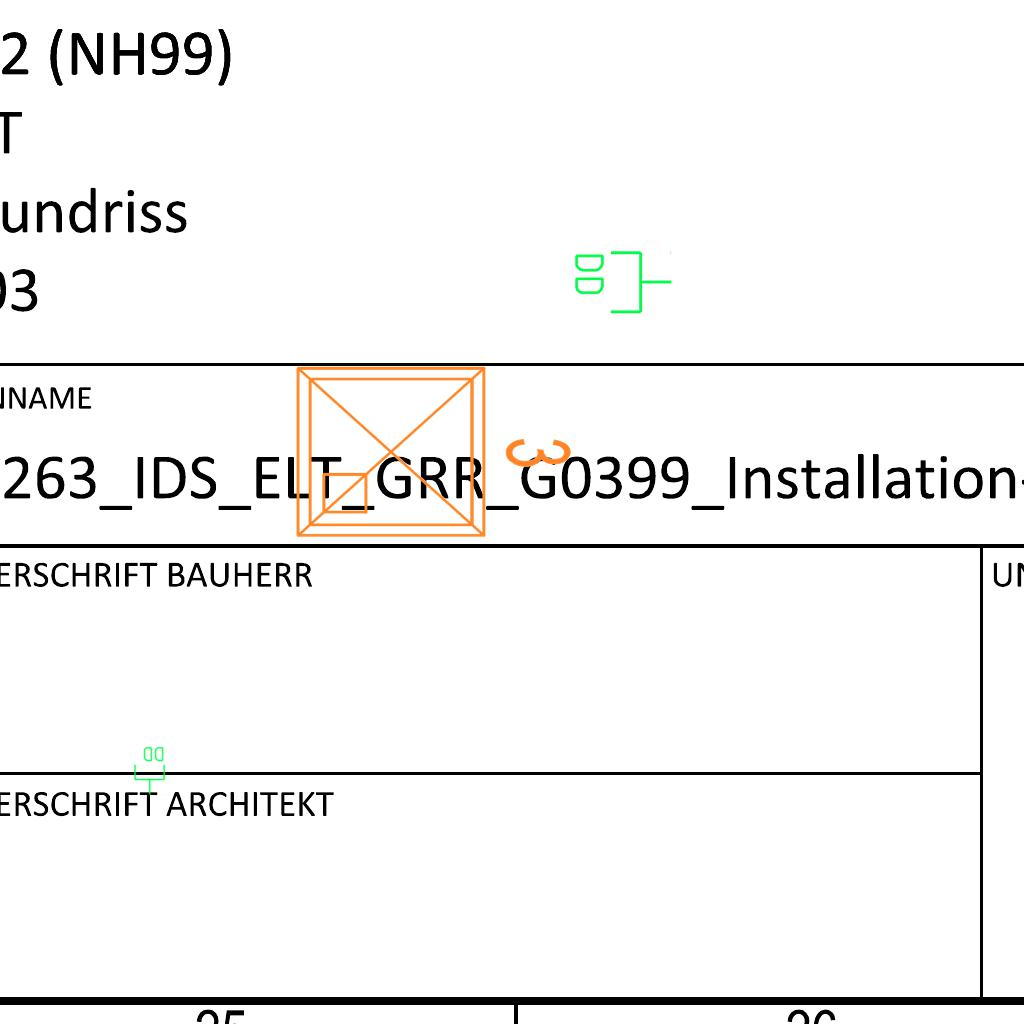Datenanschluss_zweifach: (571, 247, 674, 316), (133, 745, 167, 796)
Einbaudownlights_LED_Konferenzraeume: (282, 344, 582, 552)
